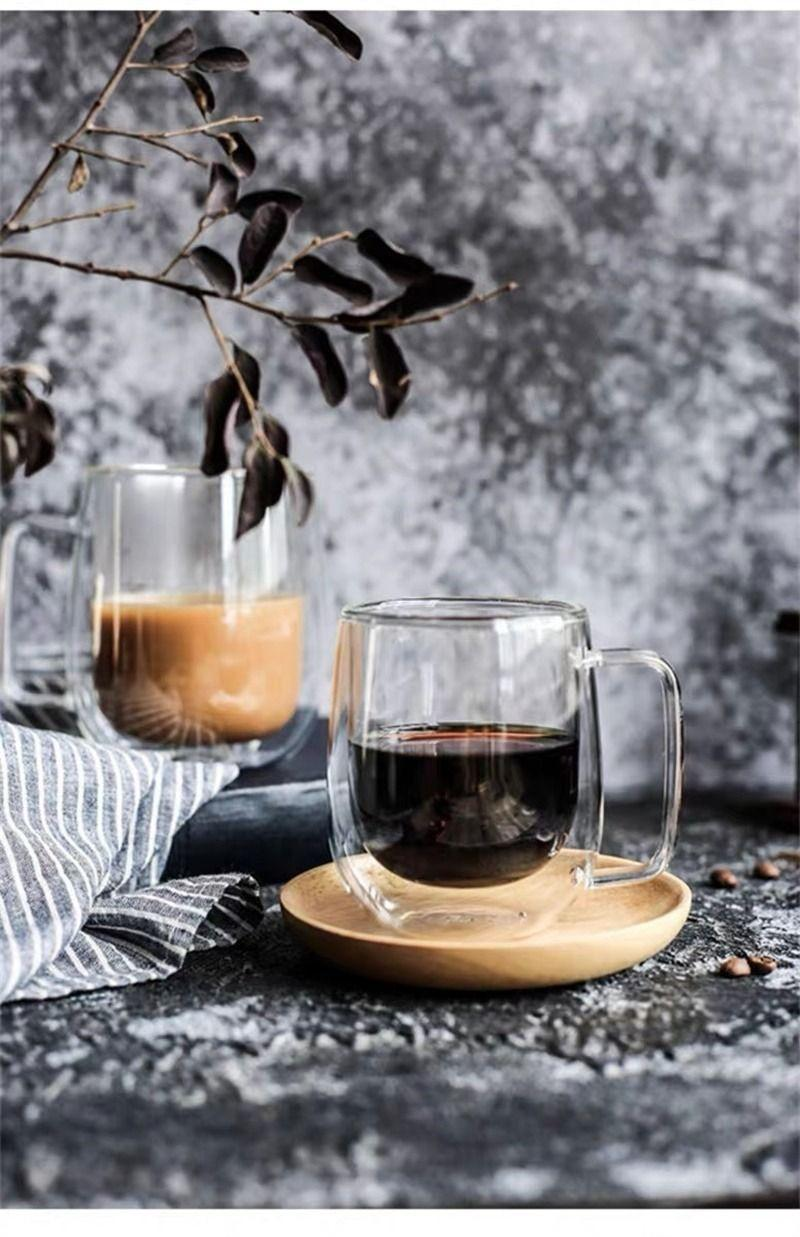glass-mug: (320, 586, 694, 944), (0, 455, 320, 773)
